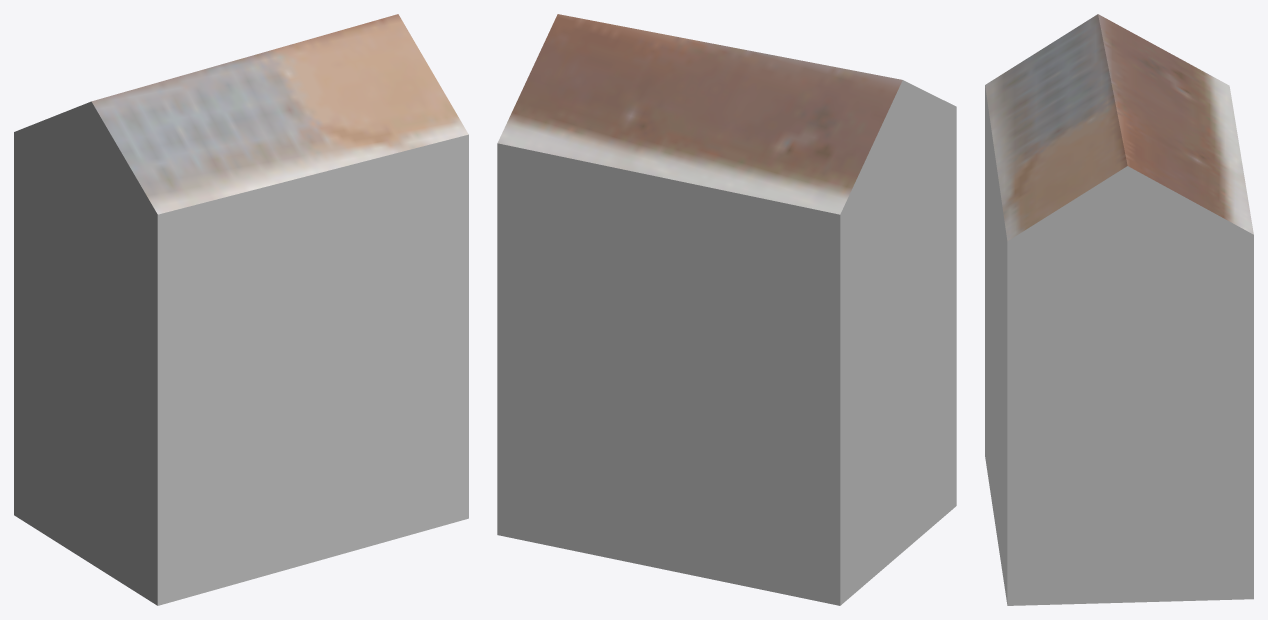
The model's file is DEBW_0010007Tx6y.gltf.
3 views of the same model, side by side, from view 1: azimuth 30°, elevation 25°; view 2: azimuth 150°, elevation 25°; view 3: azimuth 270°, elevation 25° (orthographic). The views are drawn at different scales.
Parts seen in each view (by area): view 1: Z_UP; view 2: Z_UP; view 3: Z_UP.
Boxes of the visible parts, <box> form: Z_UP: <box>14,14,468,605</box>; Z_UP: <box>497,14,956,605</box>; Z_UP: <box>985,14,1253,605</box>.
Bounding box in the file's own units: 13.41 × 17.56 × 9.74.
2 materials, 1 textured.
